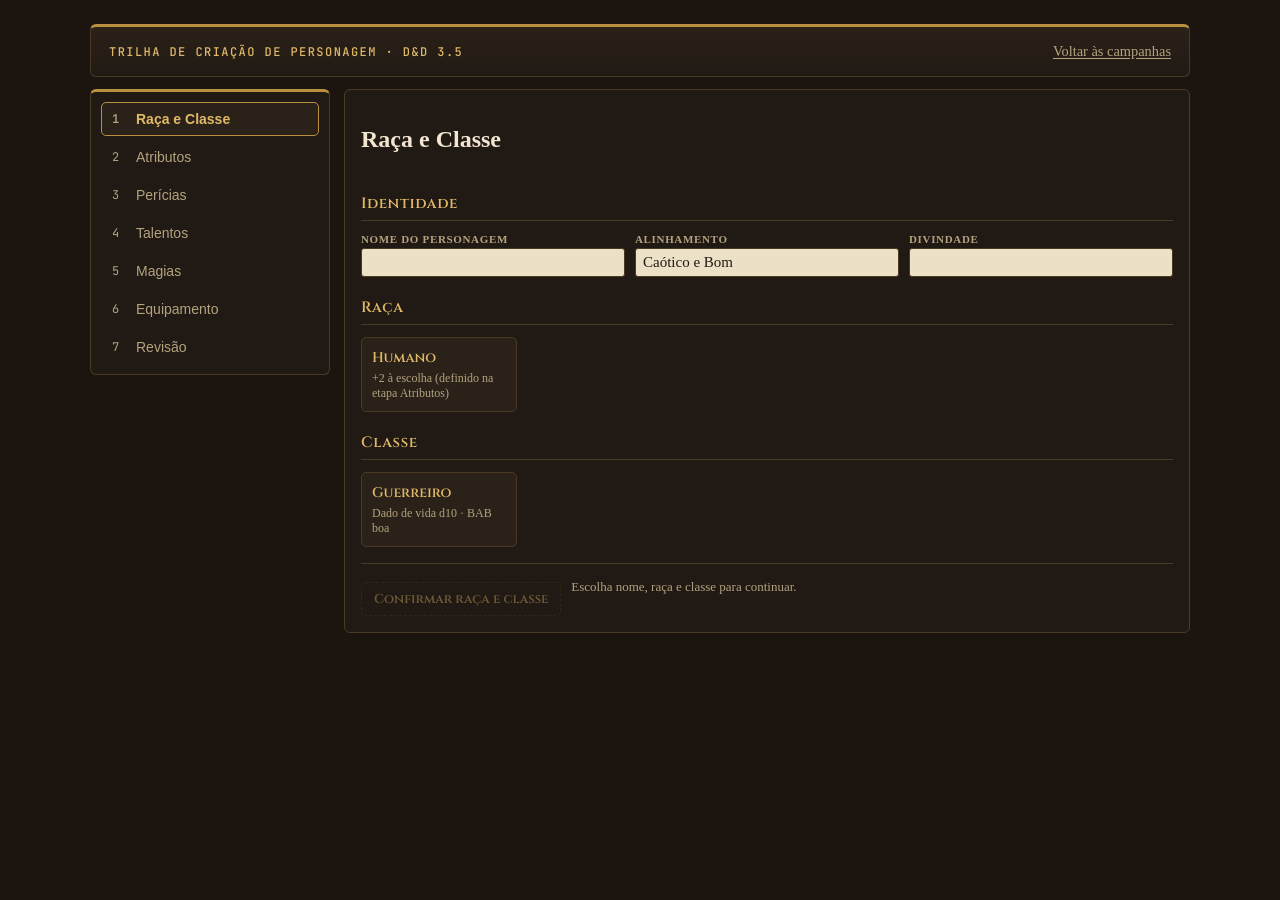
it: trilha de criação de personagem › mantém a etapa atual e não avança quando o envio forçado pela confirmação falha
expect the heading "Raça e Classe" is shown: met, box [361, 126, 501, 153]
Type "Thorin" into the field labelled "Nome do personagem" at (493, 262), box [361, 248, 625, 277]
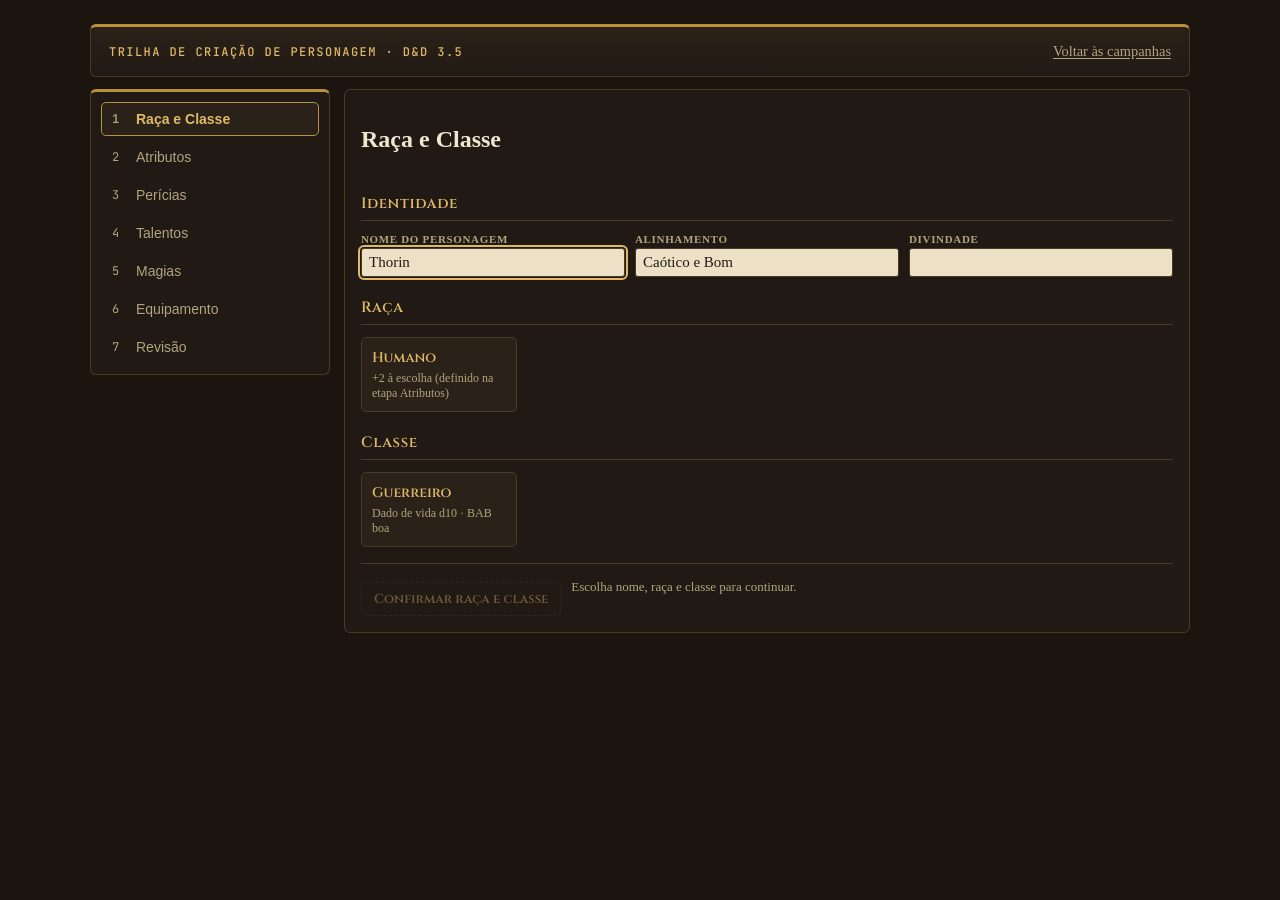
Click the button "Humano +2 à escolha (definido na etapa Atributos)" at (439, 374), box [361, 337, 517, 412]
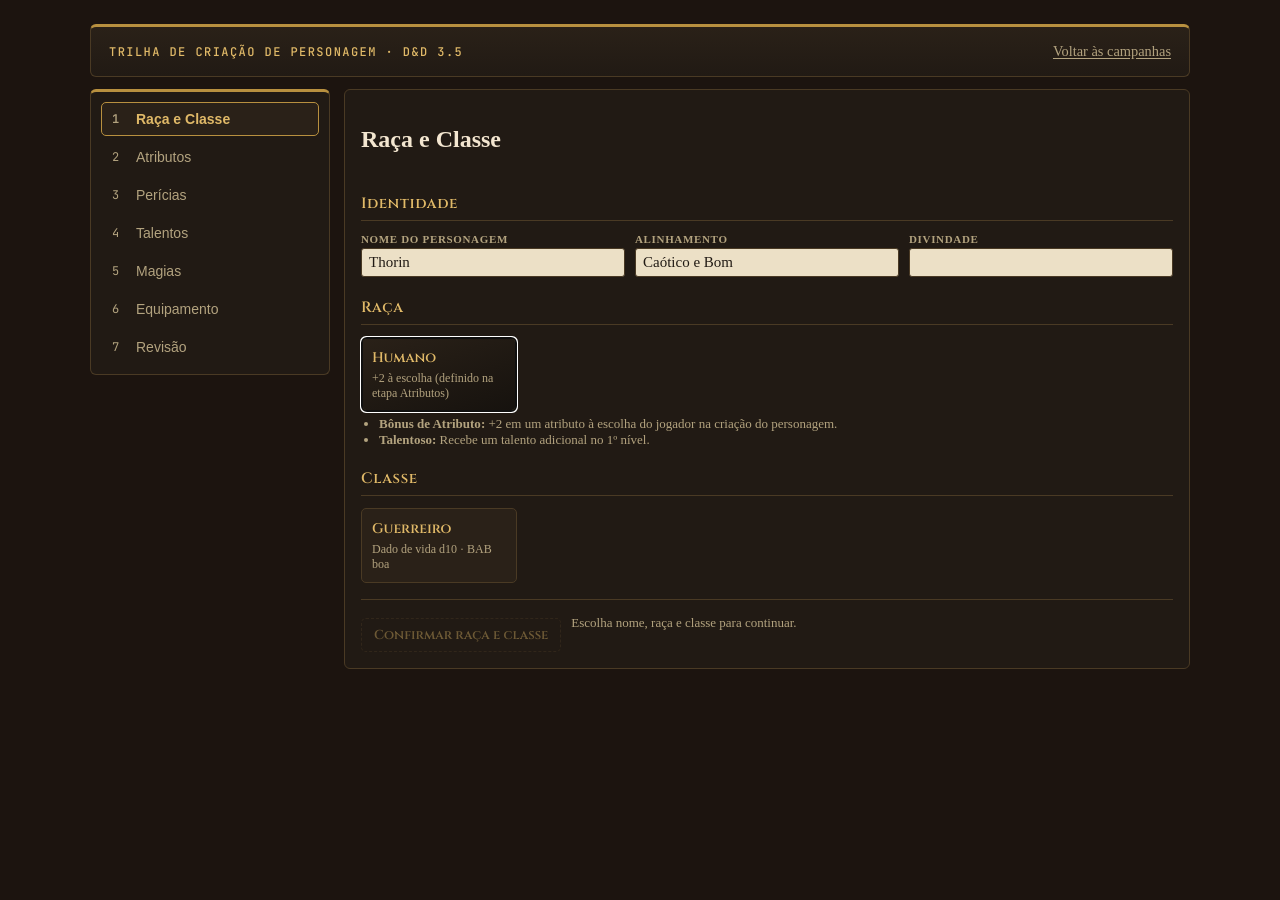
Click the button "Guerreiro Dado de vida d10 · BAB boa" at (439, 545), box [361, 508, 517, 583]
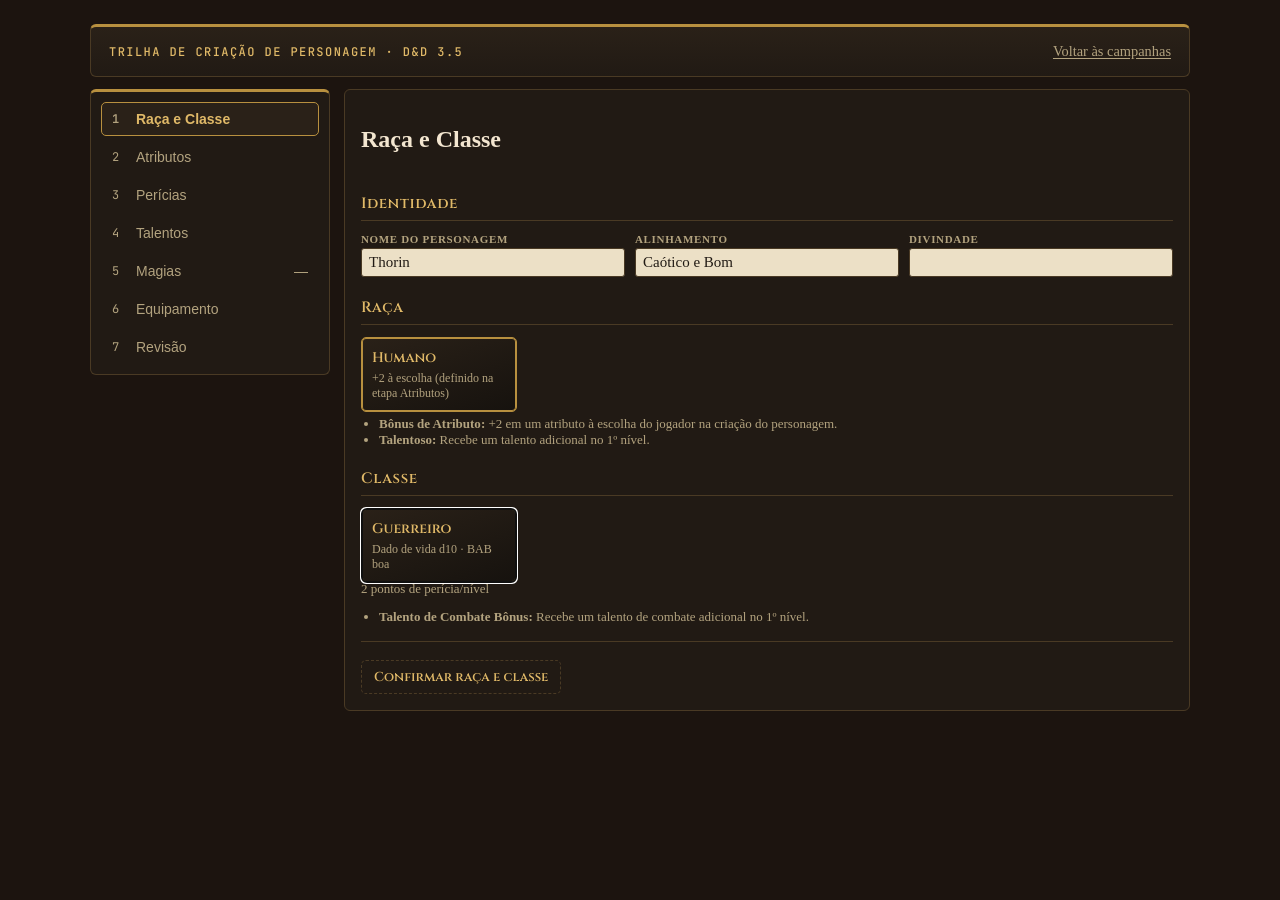
Click the button "Confirmar raça e classe" at (461, 677), box [361, 660, 561, 694]
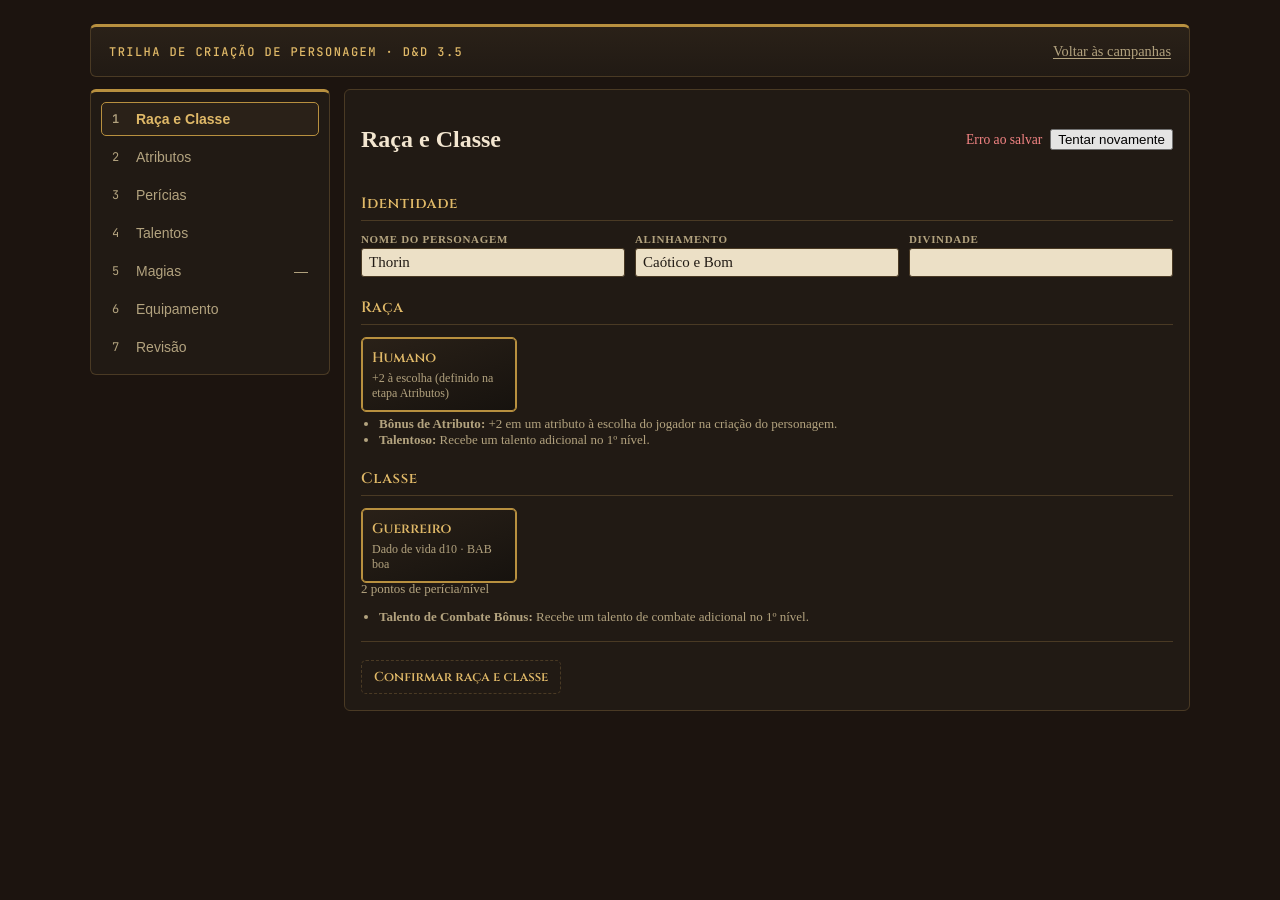
expect the heading "Raça e Classe" is shown: met, box [361, 126, 501, 153]
expect the text "Erro ao salvar Tentar novamente" is shown: met, box [966, 129, 1173, 150]
